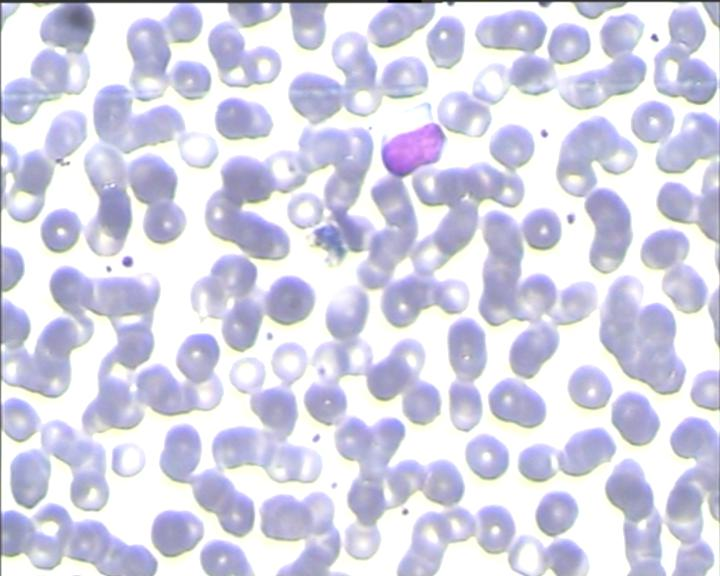lymp: (379, 101, 449, 180)
